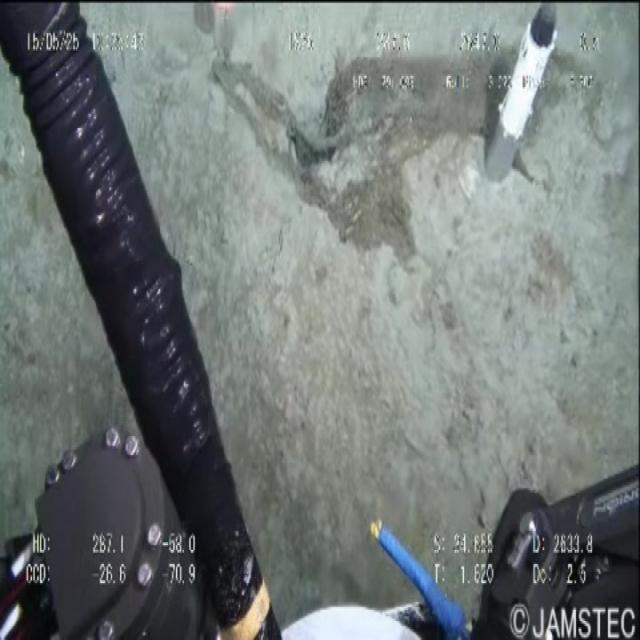Metal: (476, 5, 567, 202)
